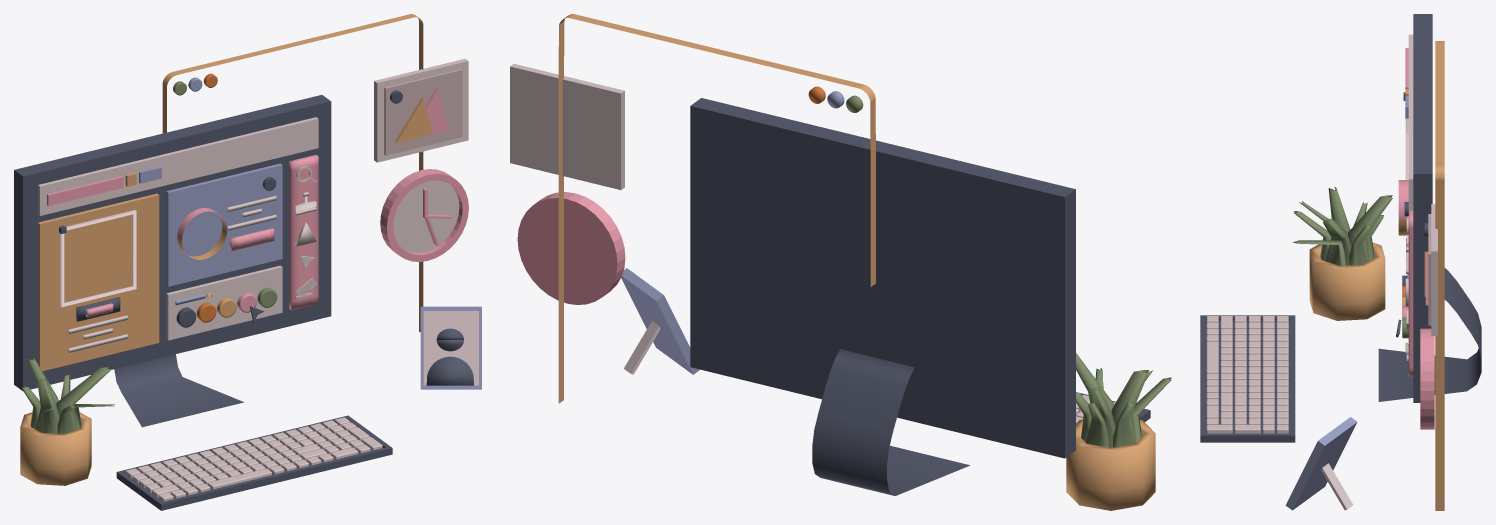
Rendered from pc_original.glb.
3 views of the same model, side by side, from view 1: azimuth 30°, elevation 25°; view 2: azimuth 150°, elevation 25°; view 3: azimuth 270°, elevation 25° (orthographic). The views are drawn at different scales.
Visible parts, largest first — view 1: Clock; view 2: Clock; view 3: Clock.
Part boxes in pixels (x1=…): Clock: x1=14, y1=14, x2=481, y2=510; Clock: x1=510, y1=14, x2=1171, y2=510; Clock: x1=1200, y1=14, x2=1481, y2=510.
Bounding box in the file's own units: 9.4 × 6.07 × 4.45.
